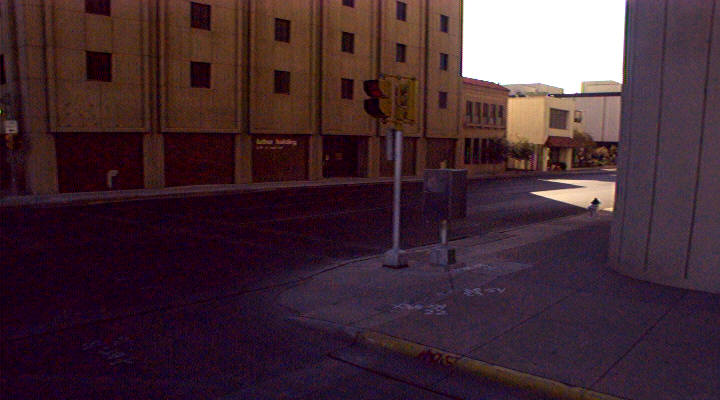Ramp: (262, 259, 419, 348)
